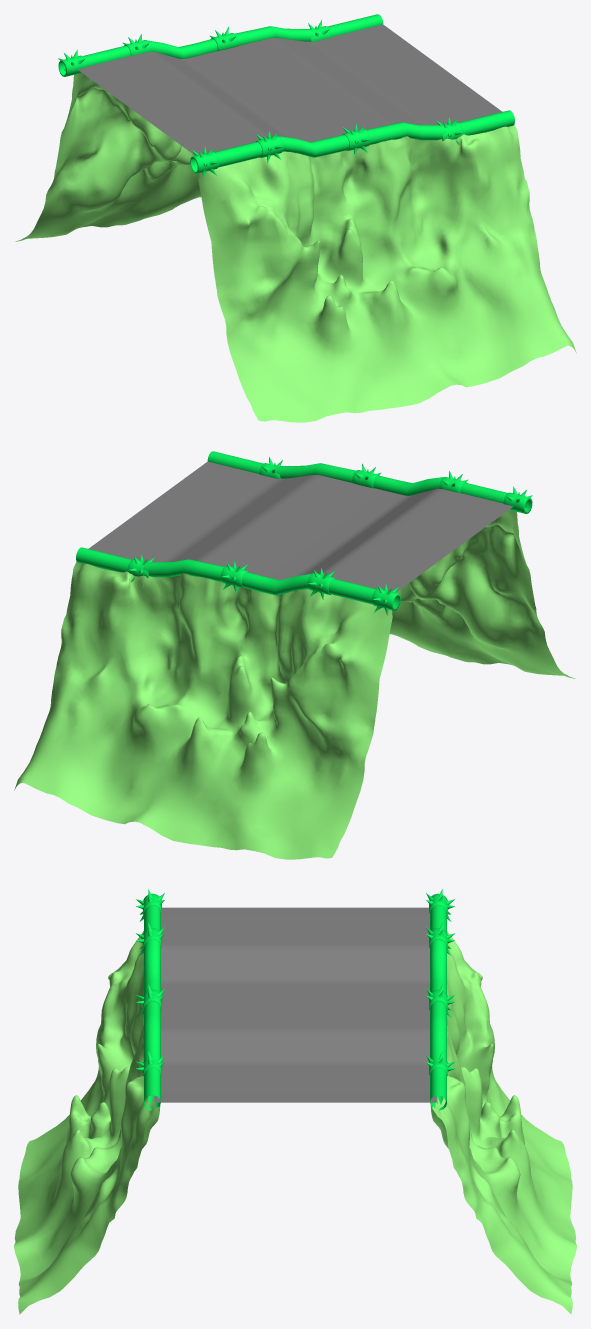
File: Track_Ice_07.fbx
3 renders of one model, top to bottom at view 1: azimuth 30°, elevation 25°; view 2: azimuth 150°, elevation 25°; view 3: azimuth 270°, elevation 25°, orthographic. The views are drawn at different scales.
Parts seen in each view (by area): view 1: Track_Ice_07_Walls, Track_Ice_07; view 2: Track_Ice_07_Walls, Track_Ice_07; view 3: Track_Ice_07_Walls, Track_Ice_07.
Part boxes in pixels (left/top/right/bottom): Track_Ice_07_Walls: left=15, top=14, right=576, bottom=422; Track_Ice_07: left=77, top=24, right=502, bottom=155; Track_Ice_07_Walls: left=14, top=451, right=575, bottom=859; Track_Ice_07: left=88, top=461, right=513, bottom=592; Track_Ice_07_Walls: left=14, top=889, right=576, bottom=1314; Track_Ice_07: left=154, top=907, right=436, bottom=1102.
Size of what is drawn, in the model's own units: 3179 by 4392 by 2297.
